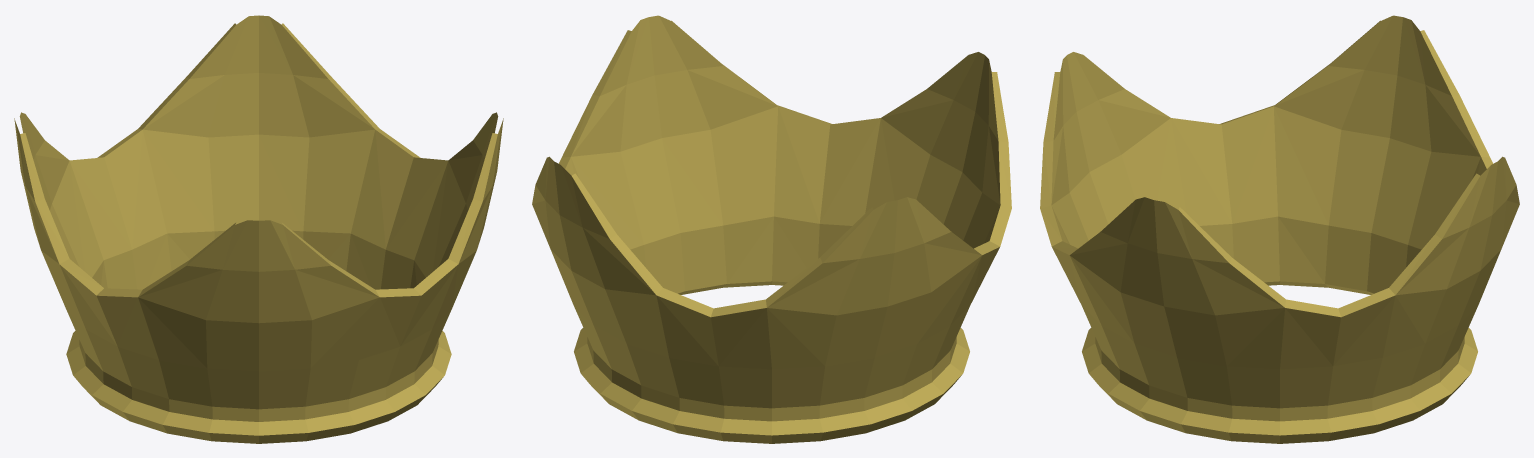
3 views of the same model, side by side, from view 1: azimuth 30°, elevation 25°; view 2: azimuth 150°, elevation 25°; view 3: azimuth 270°, elevation 25° (orthographic). The views are drawn at different scales.
Parts seen in each view (by area): view 1: Crown_Cylinder.011; view 2: Crown_Cylinder.011; view 3: Crown_Cylinder.011.
Boxes of the visible parts, x1,y1,x2,y2 form: Crown_Cylinder.011: (14, 15, 503, 443); Crown_Cylinder.011: (532, 15, 1011, 443); Crown_Cylinder.011: (1040, 15, 1519, 443).
Size of the model in its own units: 0.8315 by 0.492 by 0.8315.
